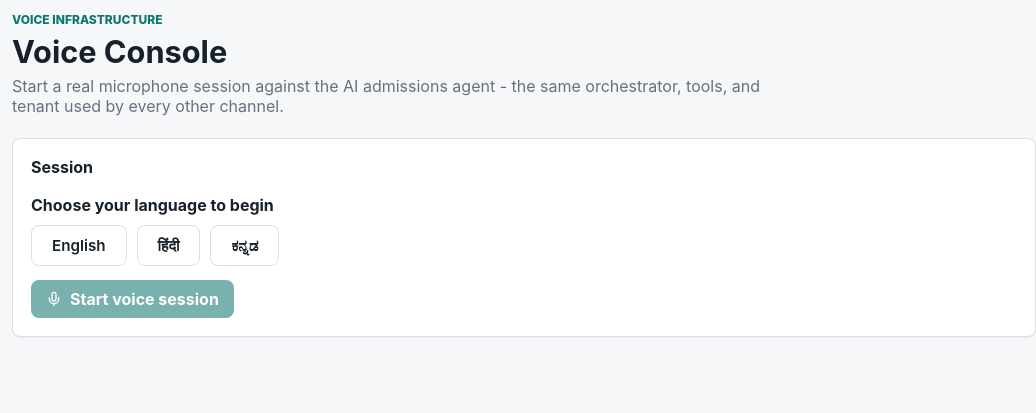
Test case: VoiceConsole - connection/error states › shows an error notice when session creation fails (e.g. livekit misconfigured)
Click the radio button labelled "English".
click(79, 246)  # box [31,225,127,266]
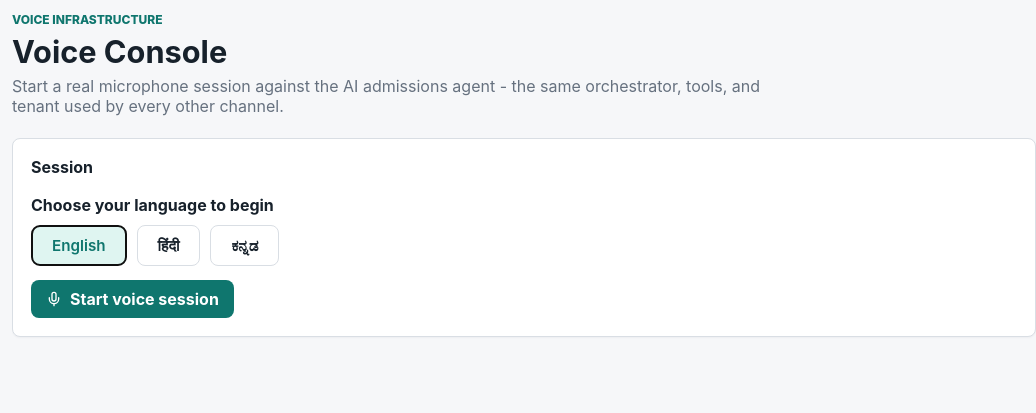
Now the button "Start voice session" is enabled
Click the button "Start voice session".
click(132, 299)  # box [31,280,234,318]
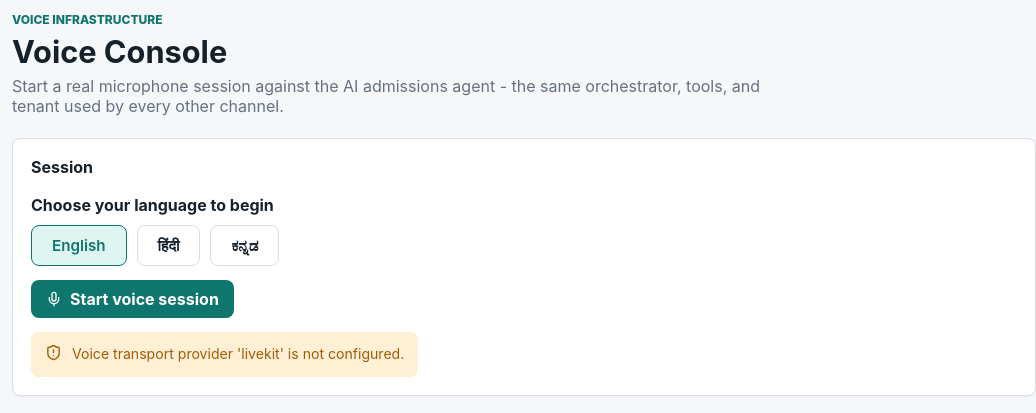
Now the text "Voice transport provider 'livekit' is not configured." is shown, box [72,344,404,365]
